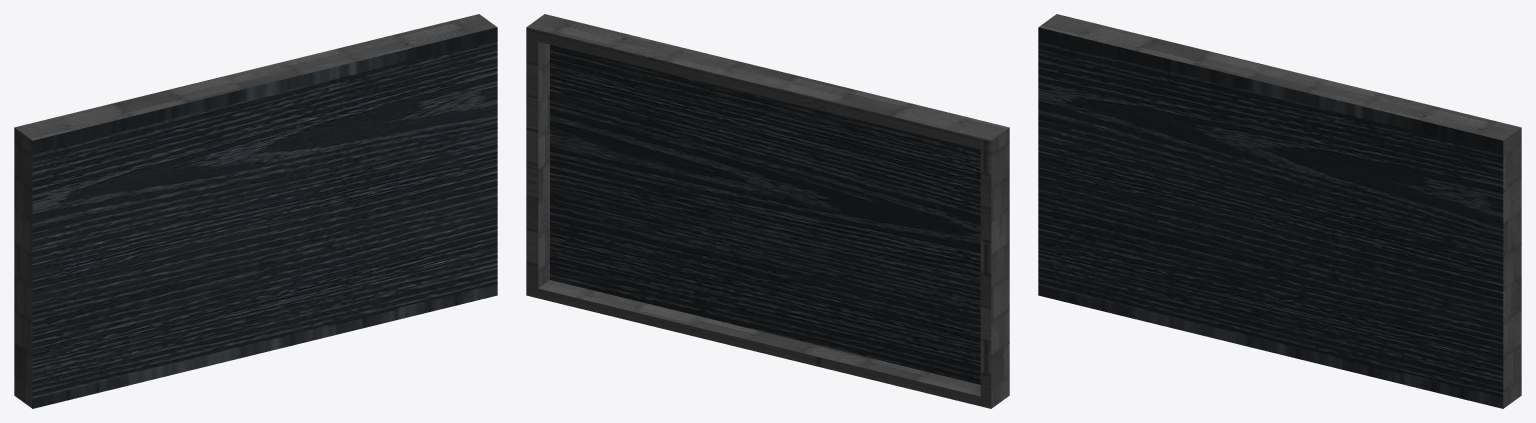
Rendered from maze.fbx.
The picture shows the model from 3 angles, left to right: view 1: azimuth 30°, elevation 25°; view 2: azimuth 150°, elevation 25°; view 3: azimuth 330°, elevation 25°; orthographic projection.
Visible parts, largest first — view 1: Cube; view 2: Cube; view 3: Cube.
Part boxes in pixels (box(x1,y1,x2,y2)): Cube: box(14, 14, 497, 408); Cube: box(526, 14, 1009, 408); Cube: box(1038, 14, 1521, 408).
Bounding box in the file's own units: 17.78 × 9.8 × 1.2.
